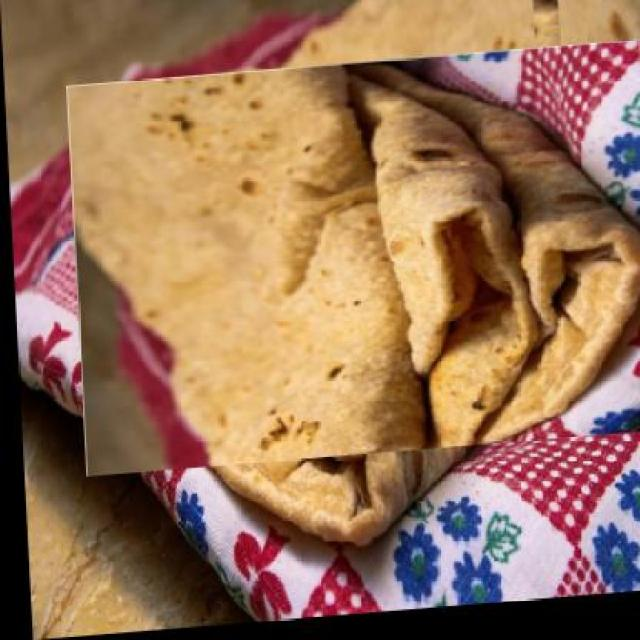chapati: (109, 8, 612, 522), (96, 0, 551, 452), (182, 0, 616, 365)
